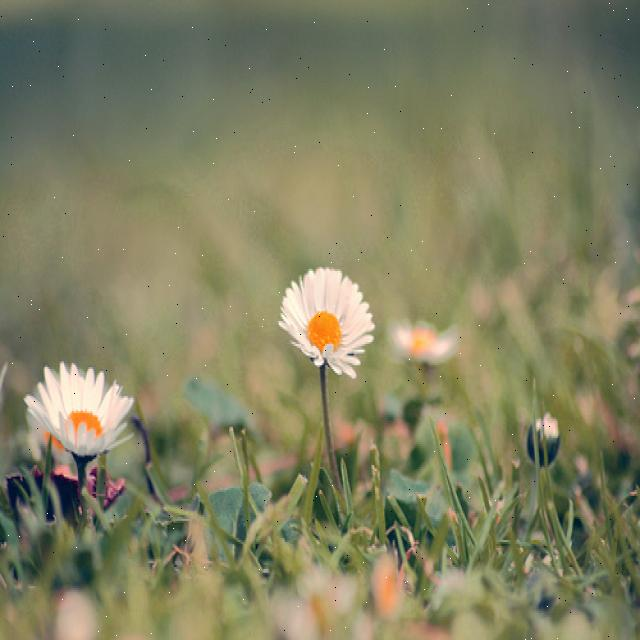Bloomed: (277, 262, 375, 381)
